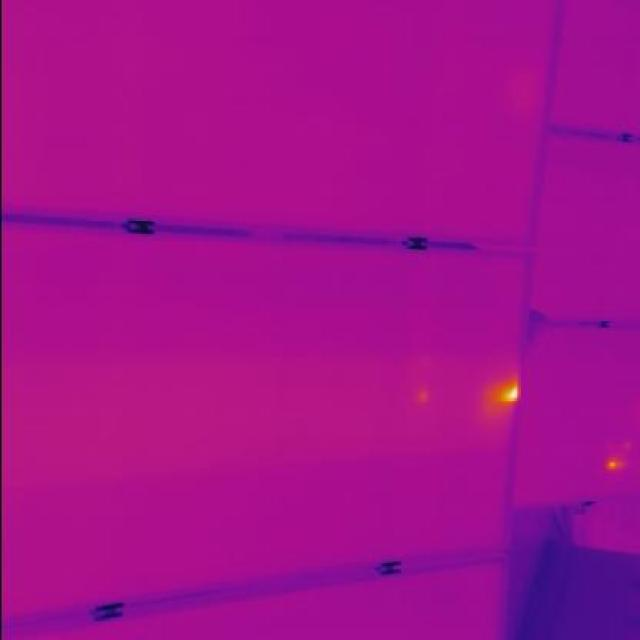hotspot: (493, 376, 524, 410)
